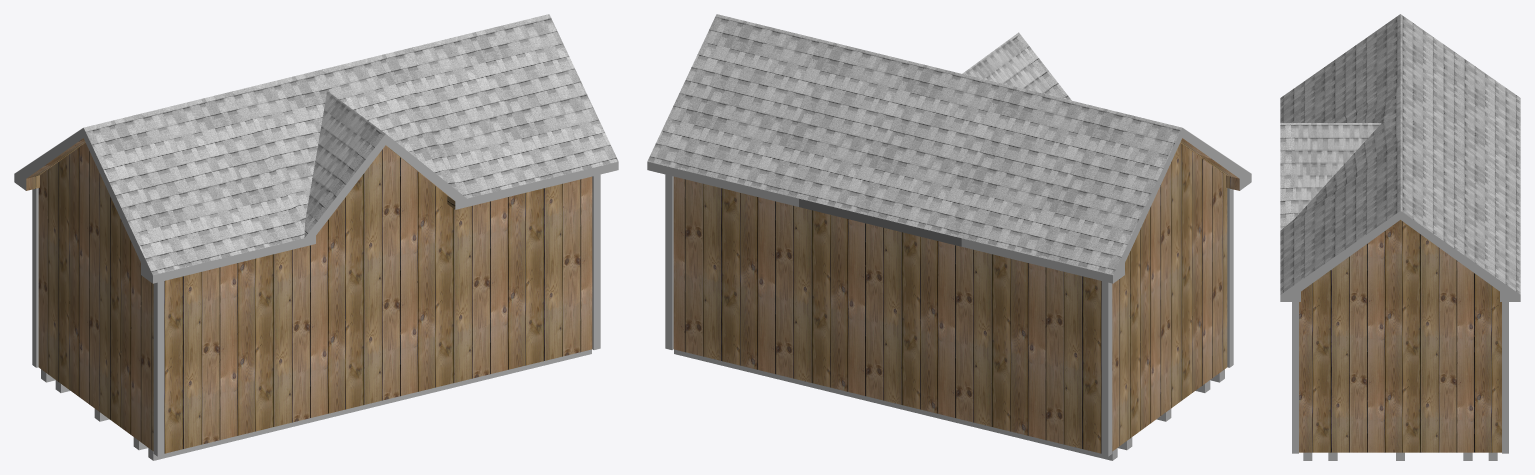
File: Victorian Shed_8x16.obj
The picture shows the model from 3 angles, left to right: view 1: azimuth 30°, elevation 25°; view 2: azimuth 150°, elevation 25°; view 3: azimuth 270°, elevation 25°; orthographic projection. The views are drawn at different scales.
Parts seen in each view (by area): view 1: Shed, Roof, Sides, Trim, Floor; view 2: Shed, Roof, Sides, Trim, Floor; view 3: Roof, Shed, Sides, Trim, Floor.
Part boxes in pixels (box(x1,y1,x2,y2)): Shed: box(26, 138, 592, 453); Roof: box(84, 14, 618, 274); Sides: box(14, 128, 618, 283); Trim: box(32, 174, 600, 456); Floor: box(41, 349, 591, 460); Shed: box(673, 138, 1239, 453); Roof: box(647, 14, 1181, 274); Sides: box(647, 128, 1251, 283); Trim: box(665, 174, 1233, 456); Floor: box(674, 349, 1224, 460); Roof: box(1280, 14, 1520, 294); Shed: box(1299, 220, 1501, 452); Sides: box(1280, 211, 1520, 301); Trim: box(1292, 302, 1508, 453); Floor: box(1303, 452, 1497, 460).
Bounding box in the file's own units: 5.18 × 3.14 × 2.67.
